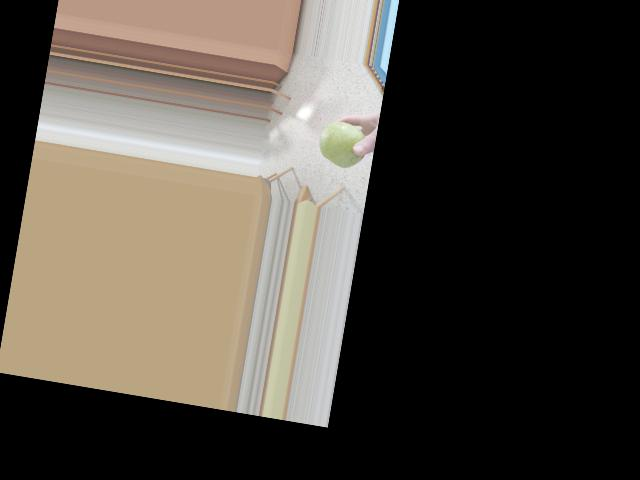apple: (313, 115, 371, 173)
